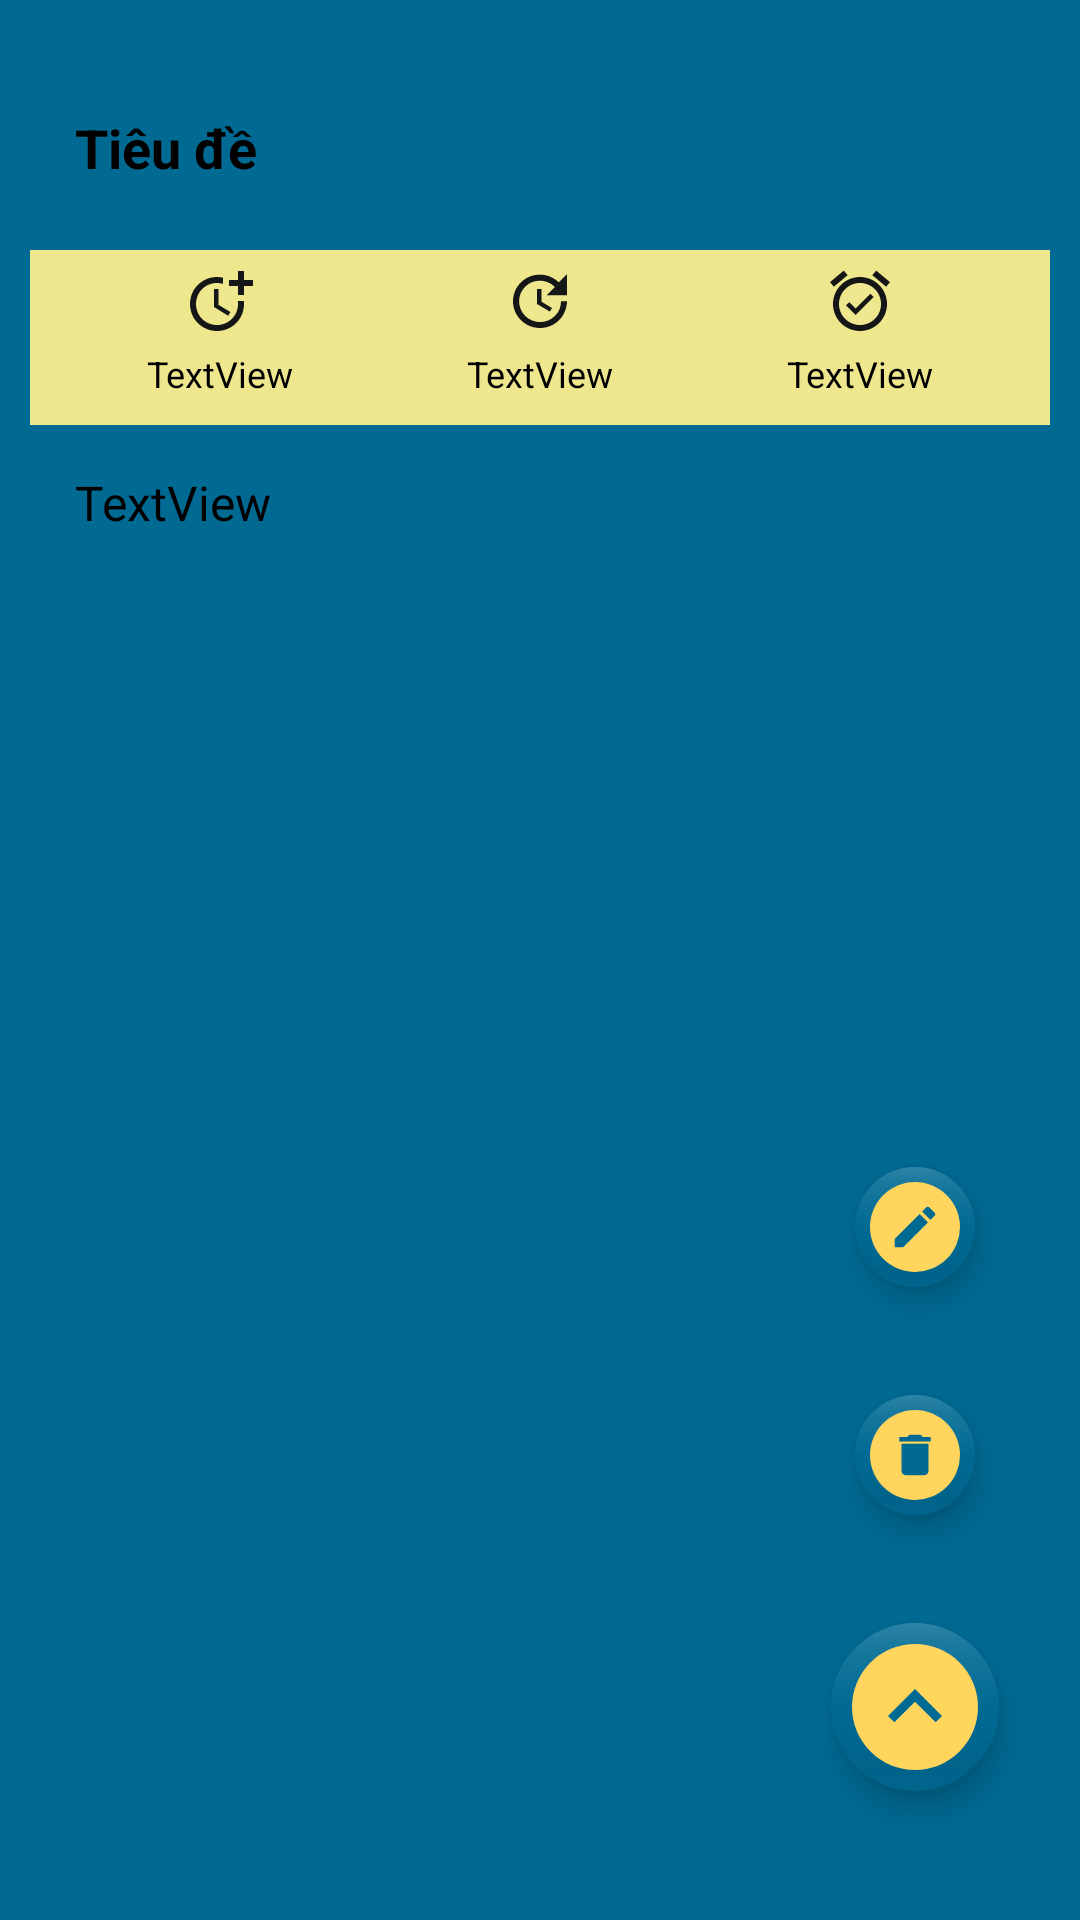

Point at icon controls on the screen. Image size 1080 x 1920, points as (x,y).
alarm on: (860,300)
create: (915,1227)
delete: (915,1456)
more time: (221,301)
update: (540,301)
